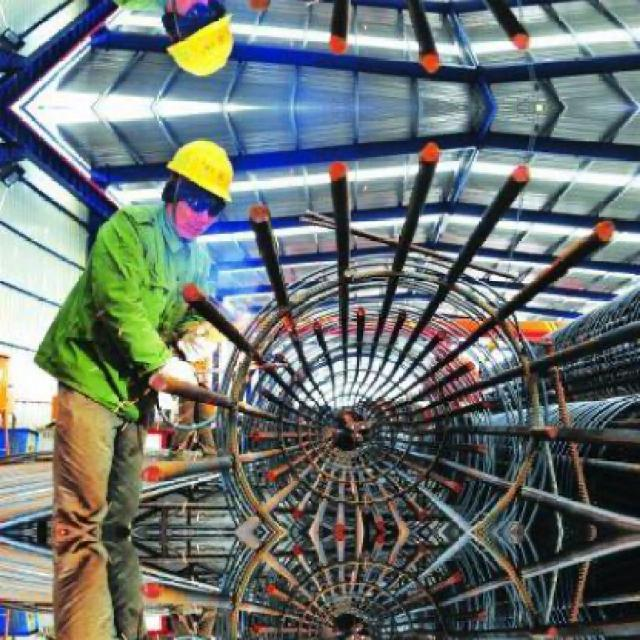helmet: (160, 132, 246, 240), (159, 0, 246, 82)
